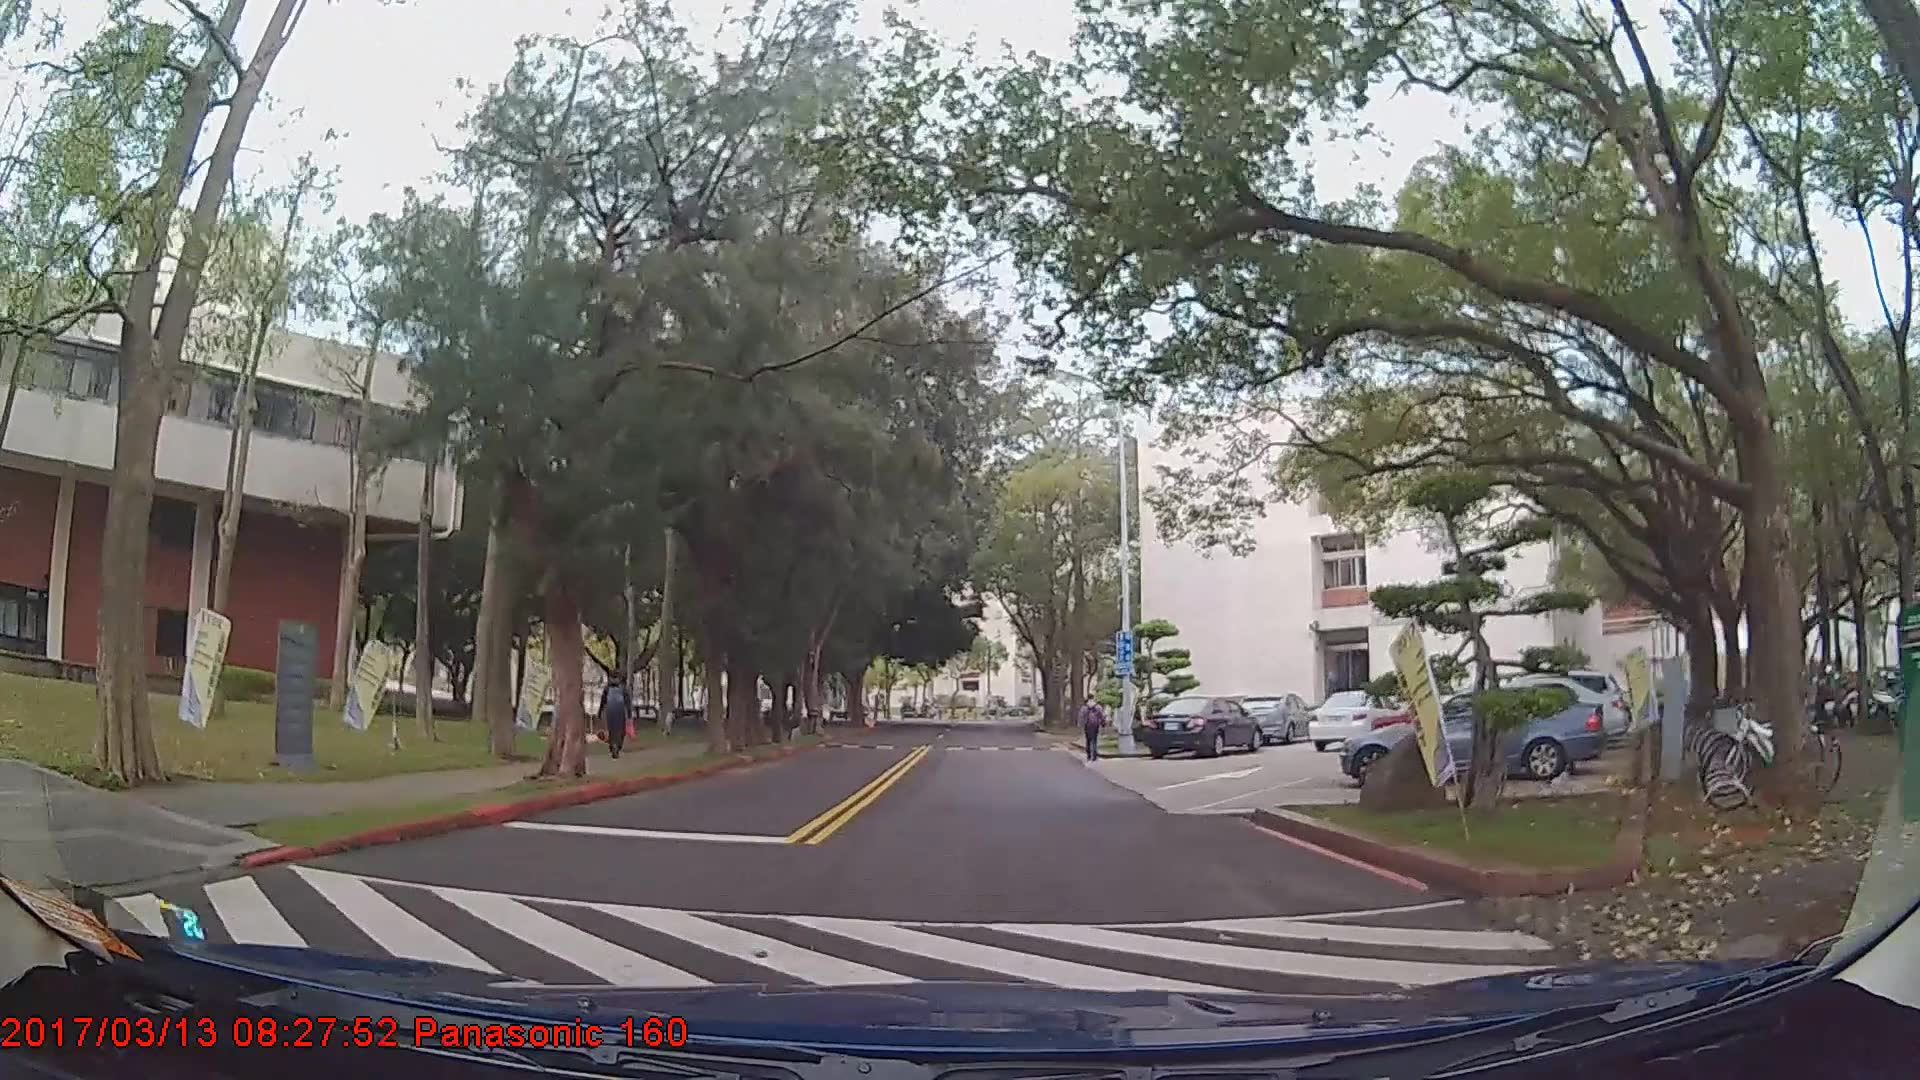pedestrian: (598, 672, 635, 763), (1080, 694, 1108, 765)
vehicle: (1339, 684, 1604, 789), (1140, 692, 1265, 757), (1310, 686, 1399, 749), (1236, 690, 1318, 741)
